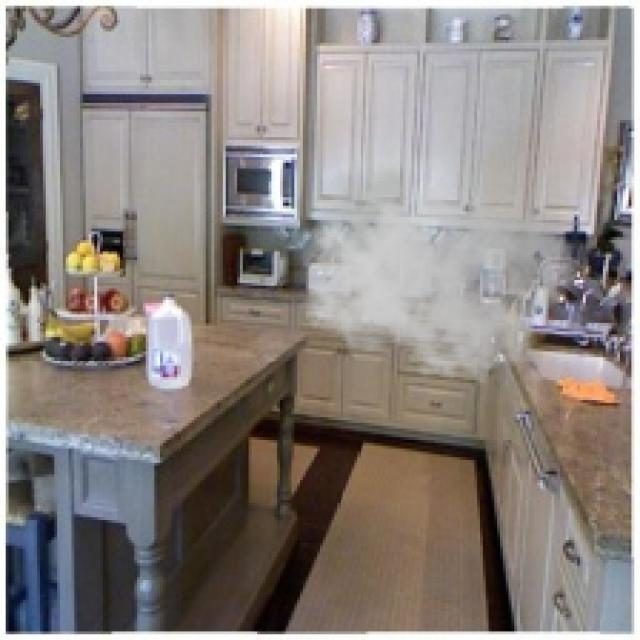Smoke: (294, 160, 574, 386)
